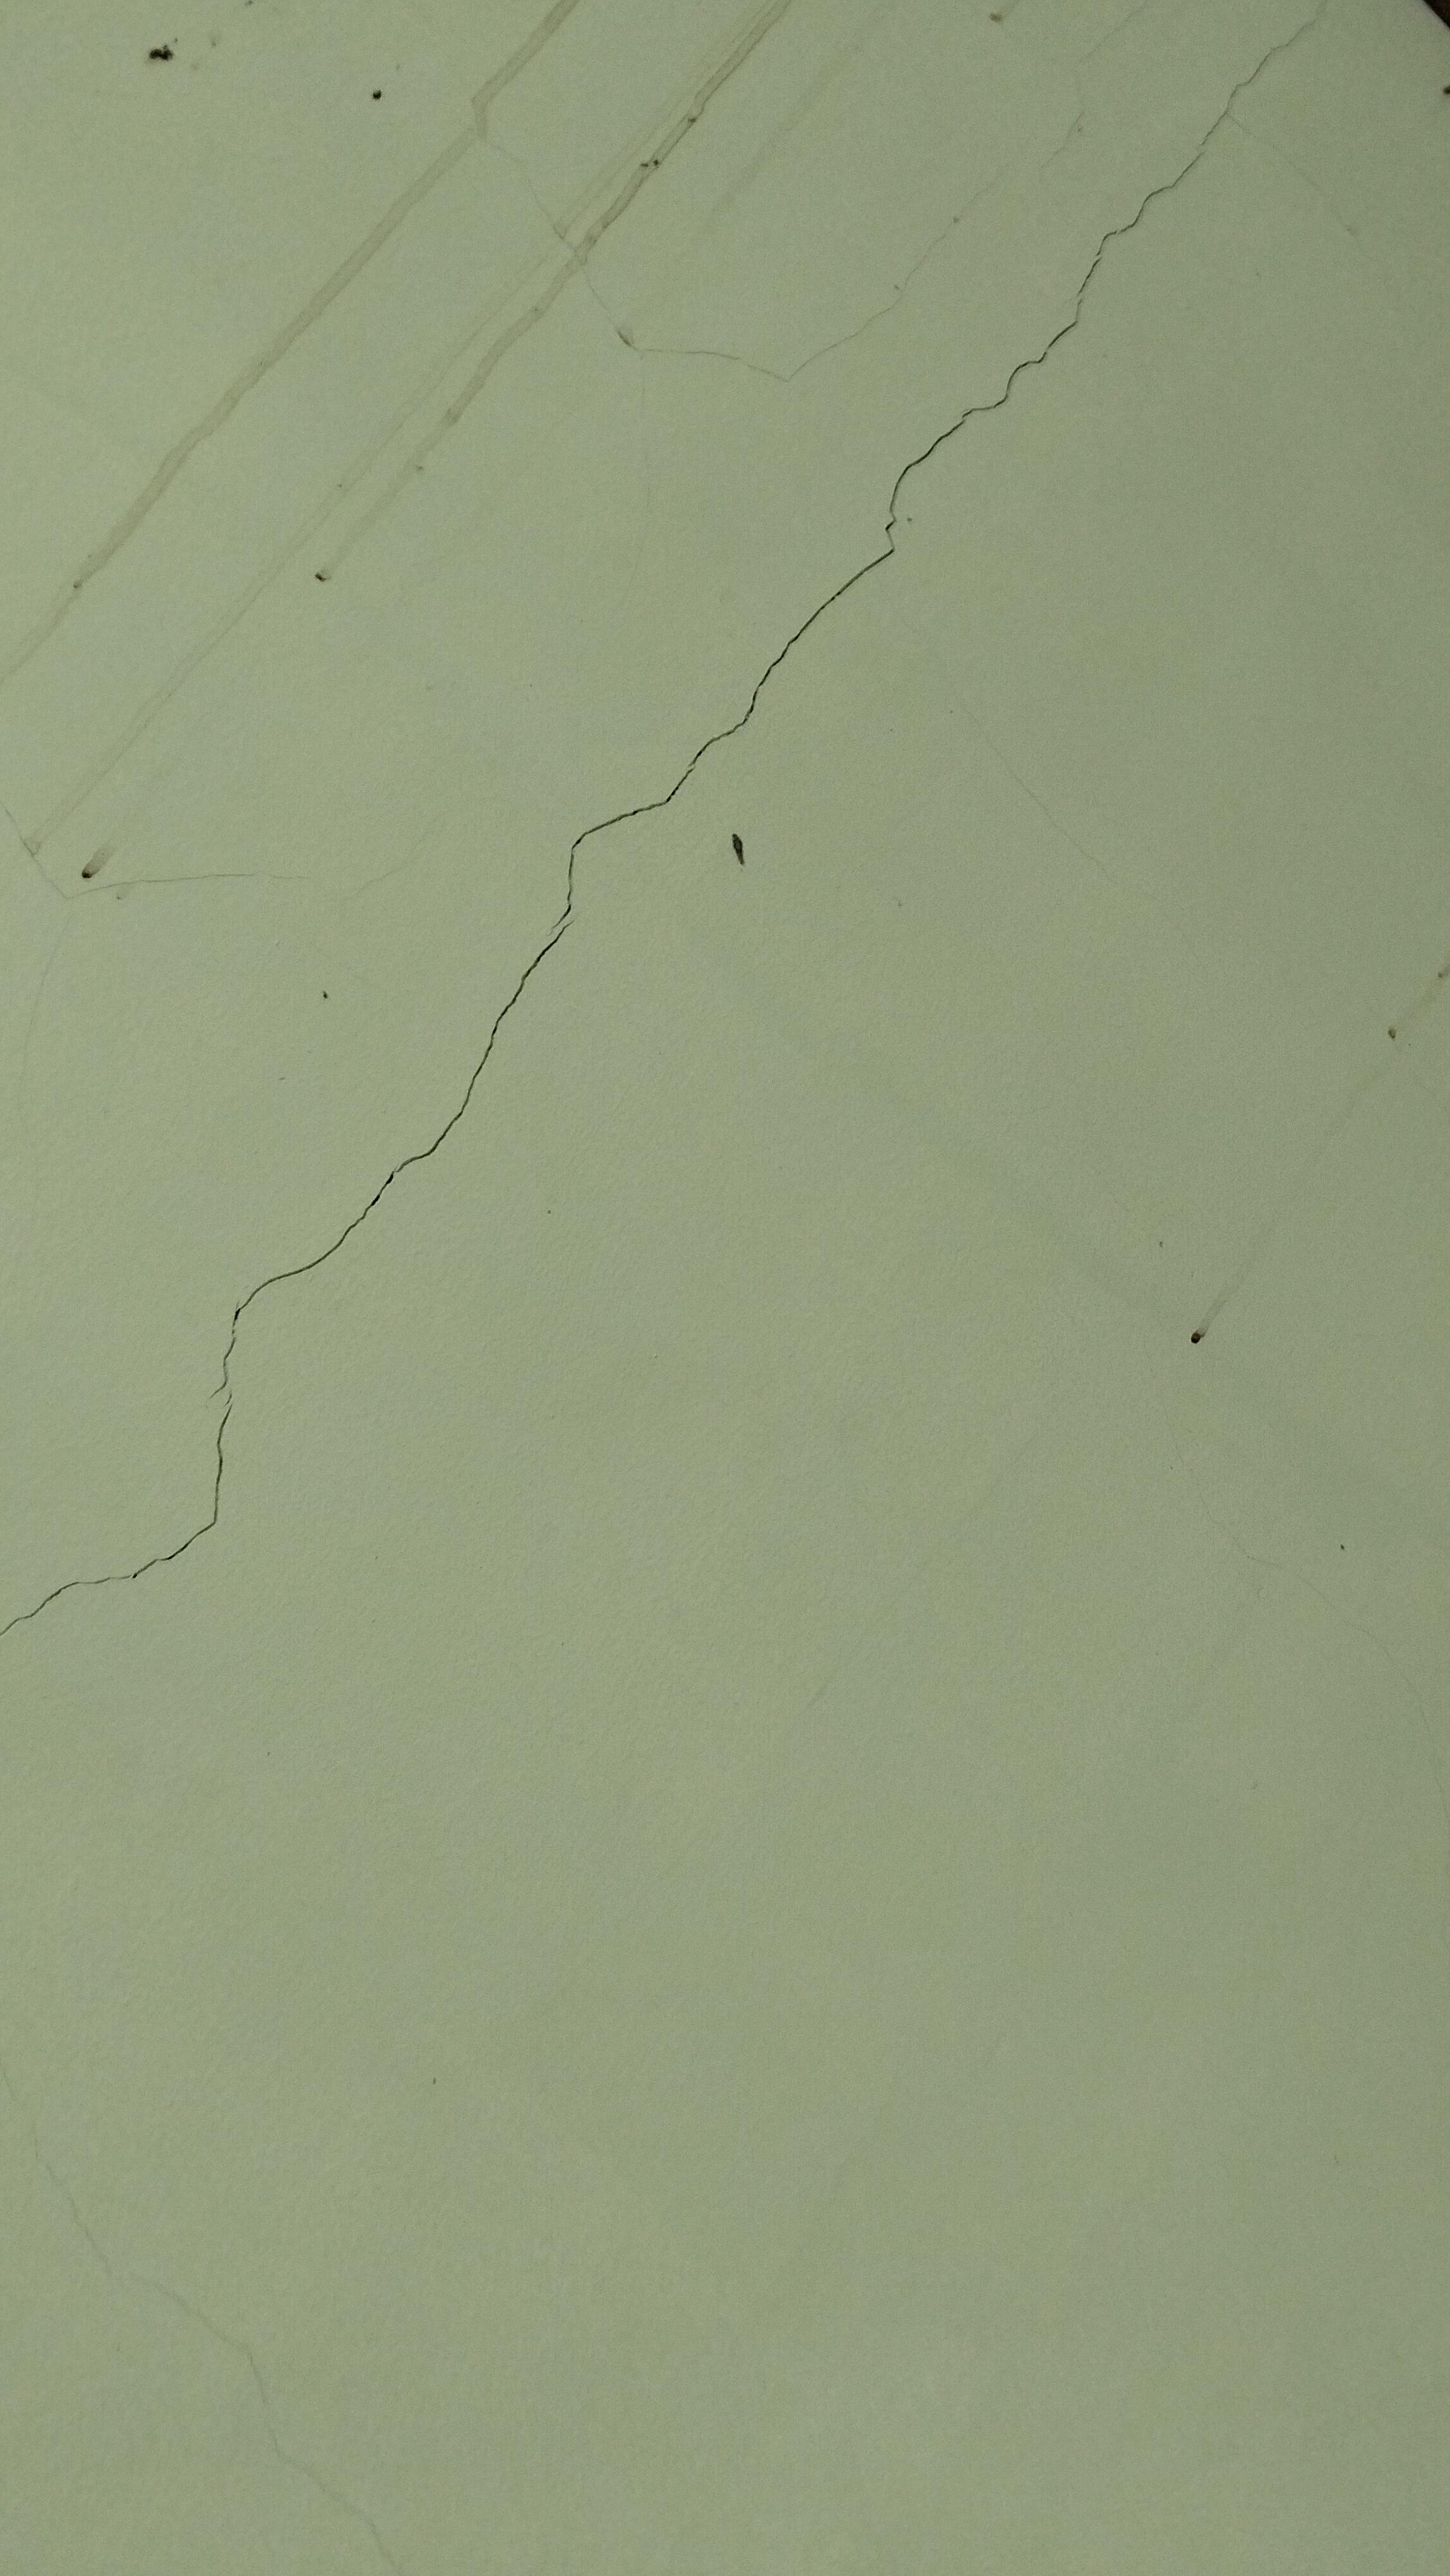Crack: (0, 929, 549, 1679), (517, 379, 1092, 973), (1004, 0, 1395, 398)
